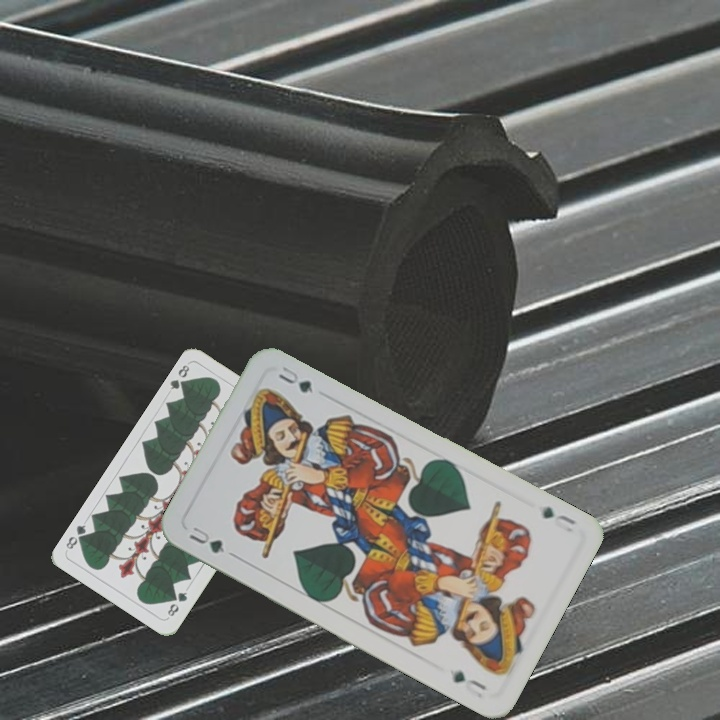G8: (163, 588, 190, 619), (166, 361, 192, 393)
GU: (185, 522, 227, 556), (538, 502, 579, 535)
